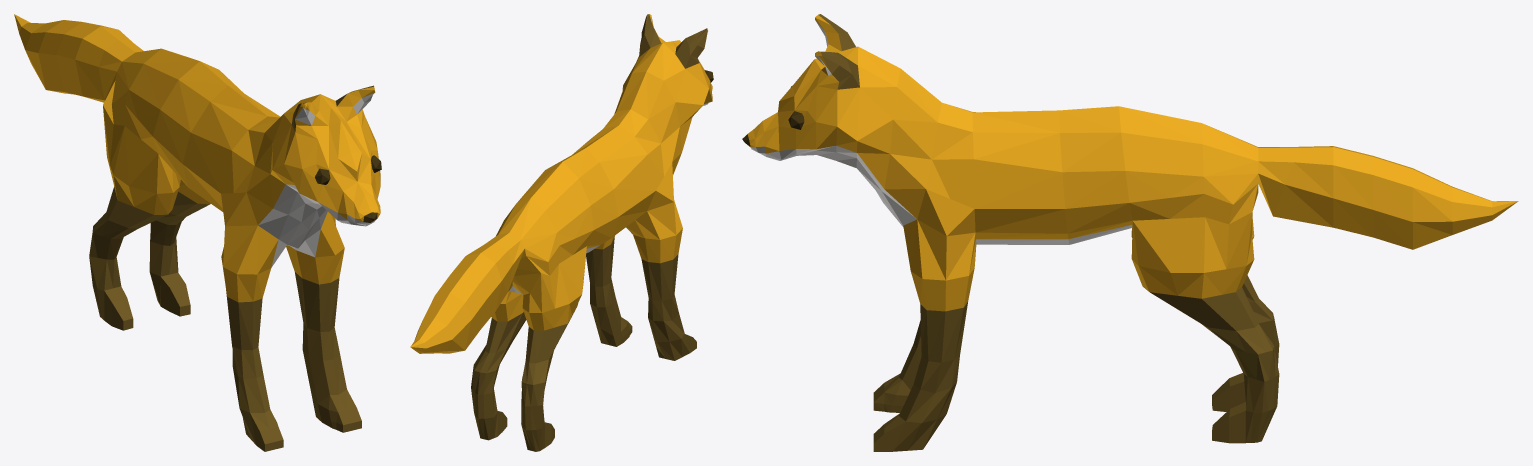
File: foxok.glb
3 renders of one model, left to right at view 1: azimuth 30°, elevation 25°; view 2: azimuth 150°, elevation 25°; view 3: azimuth 270°, elevation 25°, orthographic. The views are drawn at different scales.
Size of the model in its own units: 129 by 393 by 704.
